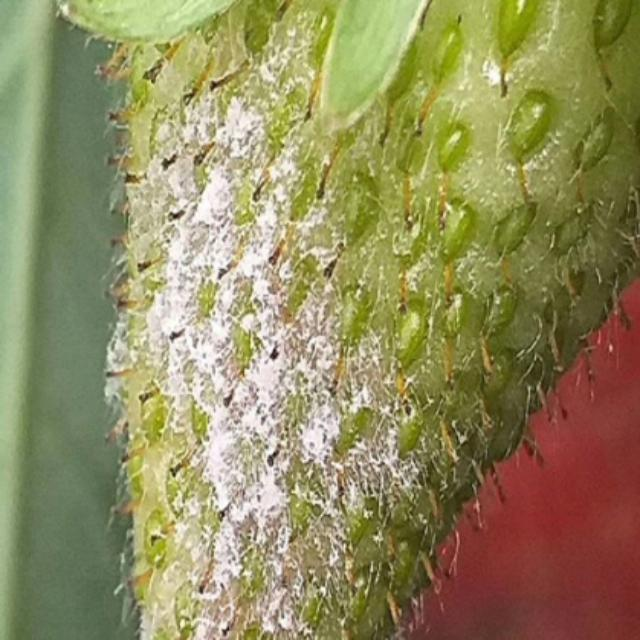Powdery Mildew Fruit: (101, 13, 597, 638)
